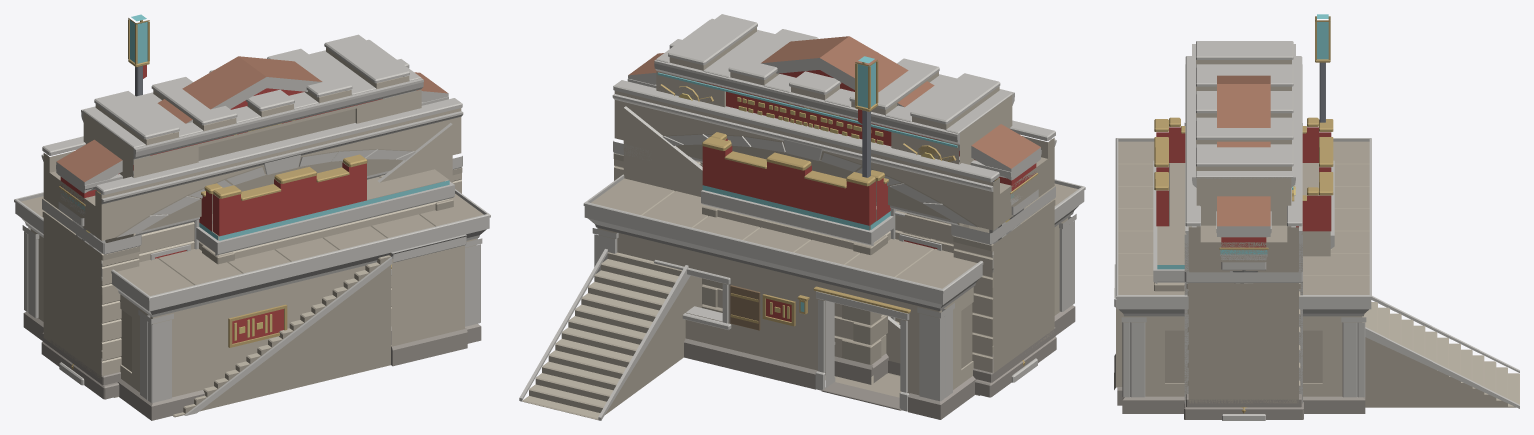
Rendered from m2w1_world_kit.glb.
3 renders of one model, left to right at view 1: azimuth 30°, elevation 25°; view 2: azimuth 150°, elevation 25°; view 3: azimuth 270°, elevation 25°, orthographic. The views are drawn at different scales.
Parts seen in each view (by area): view 1: barracks, aqueduct_span, gate, wall_stair, watchtower, pediment_front, aqueduct_ramp, colonnade; view 2: barracks, watchtower, aqueduct_span, gate, pediment_front, aqueduct_ramp, colonnade; view 3: barracks, aqueduct_span, watchtower, gate, pediment_front, colonnade, aqueduct_ramp, wall_stair.
Boxes of the visible parts, bbox=[...] form: barracks: bbox=[14, 189, 490, 420]; aqueduct_span: bbox=[41, 59, 463, 399]; gate: bbox=[81, 34, 423, 262]; wall_stair: bbox=[172, 234, 467, 417]; watchtower: bbox=[128, 14, 454, 344]; pediment_front: bbox=[56, 56, 448, 193]; aqueduct_ramp: bbox=[114, 123, 452, 397]; colonnade: bbox=[56, 96, 448, 385]; barracks: bbox=[583, 174, 1085, 419]; watchtower: bbox=[519, 56, 893, 420]; aqueduct_span: bbox=[612, 39, 1056, 397]; gate: bbox=[654, 14, 1014, 321]; pediment_front: bbox=[628, 36, 1040, 180]; aqueduct_ramp: bbox=[623, 106, 980, 395]; colonnade: bbox=[627, 78, 1041, 382]; barracks: bbox=[1115, 138, 1371, 413]; aqueduct_span: bbox=[1184, 56, 1303, 419]; watchtower: bbox=[1153, 14, 1519, 408]; gate: bbox=[1192, 41, 1295, 227]; pediment_front: bbox=[1217, 75, 1270, 236]; colonnade: bbox=[1216, 211, 1271, 420]; aqueduct_ramp: bbox=[1184, 234, 1302, 403]; wall_stair: bbox=[1114, 264, 1125, 405].
Size of what is drawn, in the model's own units: 10.14 by 8.69 by 10.3.
